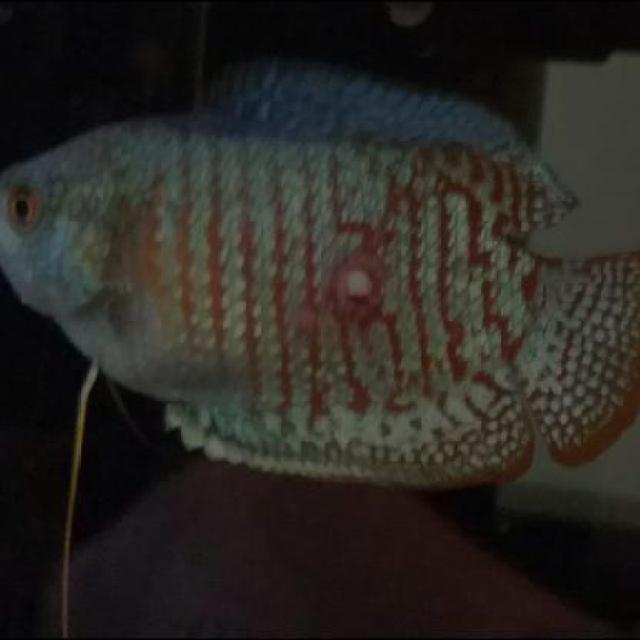Gourami: (0, 55, 638, 499)
